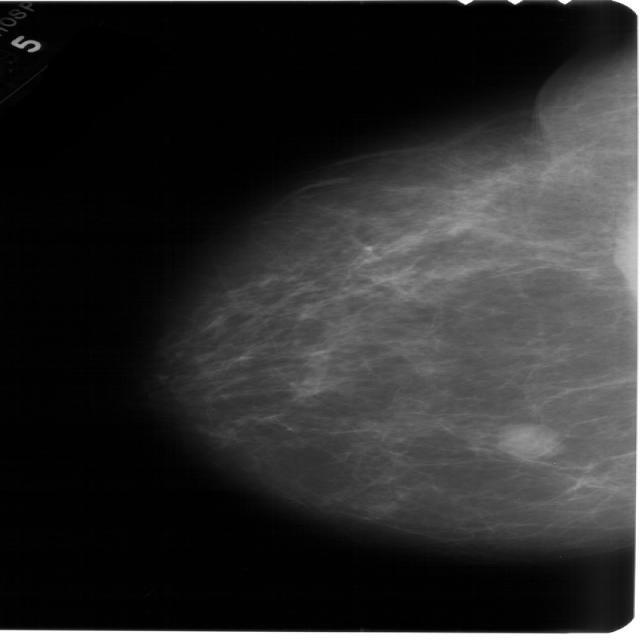tumour: (490, 422, 562, 460)
